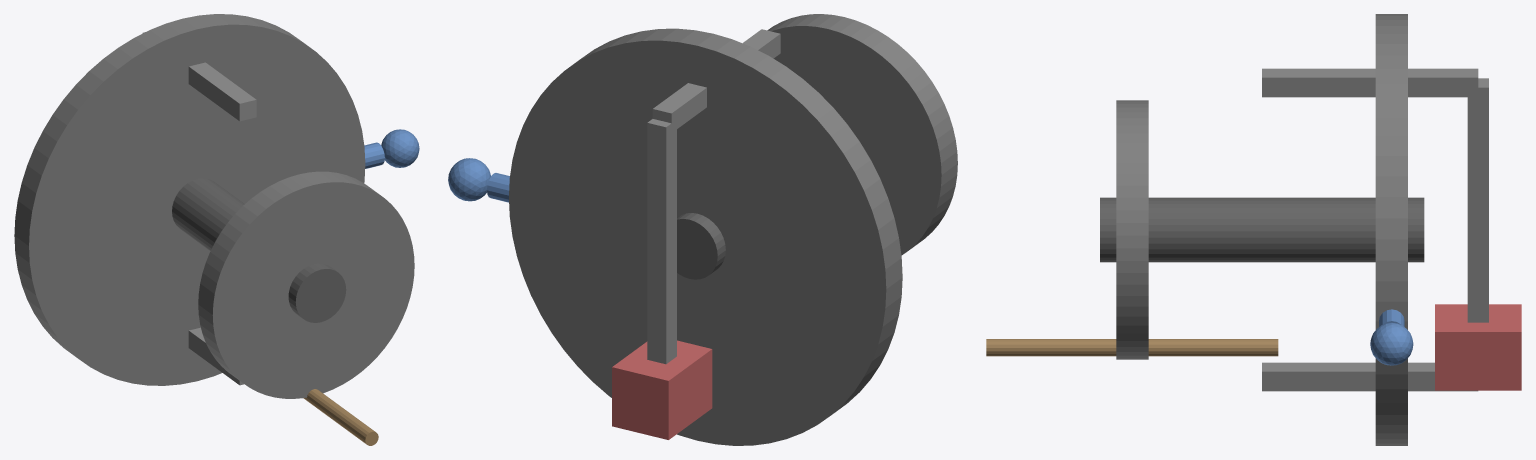
File: wheel_and_axle.glb
The picture shows the model from 3 angles, left to right: view 1: azimuth 30°, elevation 25°; view 2: azimuth 150°, elevation 25°; view 3: azimuth 270°, elevation 25°; orthographic projection. The views are drawn at different scales.
Visible parts, largest first — view 1: world; view 2: world; view 3: world.
Boxes of the visible parts, <box> form: world: <box>14,14,419,445</box>; world: <box>448,14,957,445</box>; world: <box>986,14,1521,445</box>.
Size of the model in its own units: 4.7 by 4 by 4.95.
